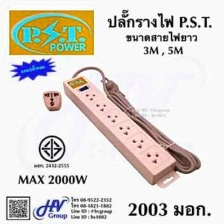three_eye_plug: (60, 73, 178, 187), (39, 87, 62, 114)
